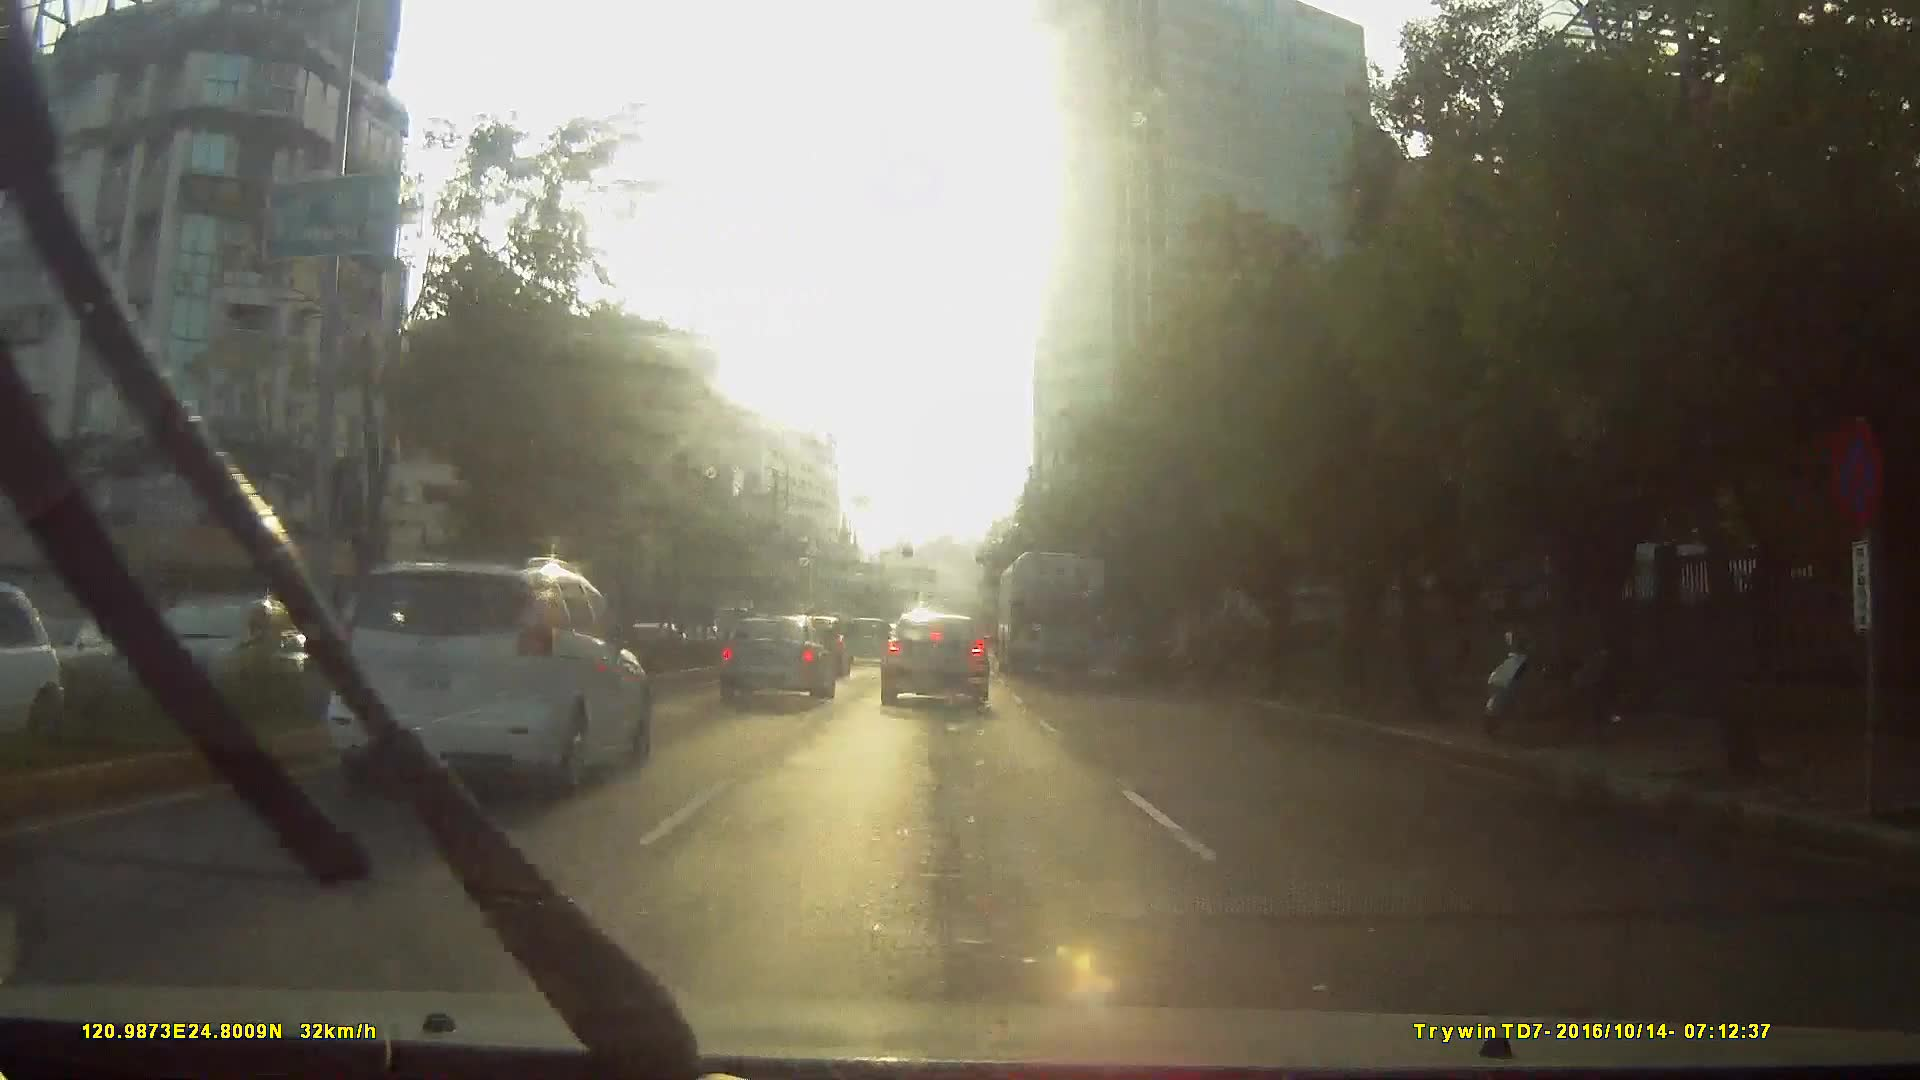vehicle: (251, 556, 684, 868), (316, 553, 651, 798), (124, 596, 320, 727), (1002, 550, 1112, 683), (877, 607, 992, 709), (716, 609, 837, 703), (844, 617, 893, 666)
